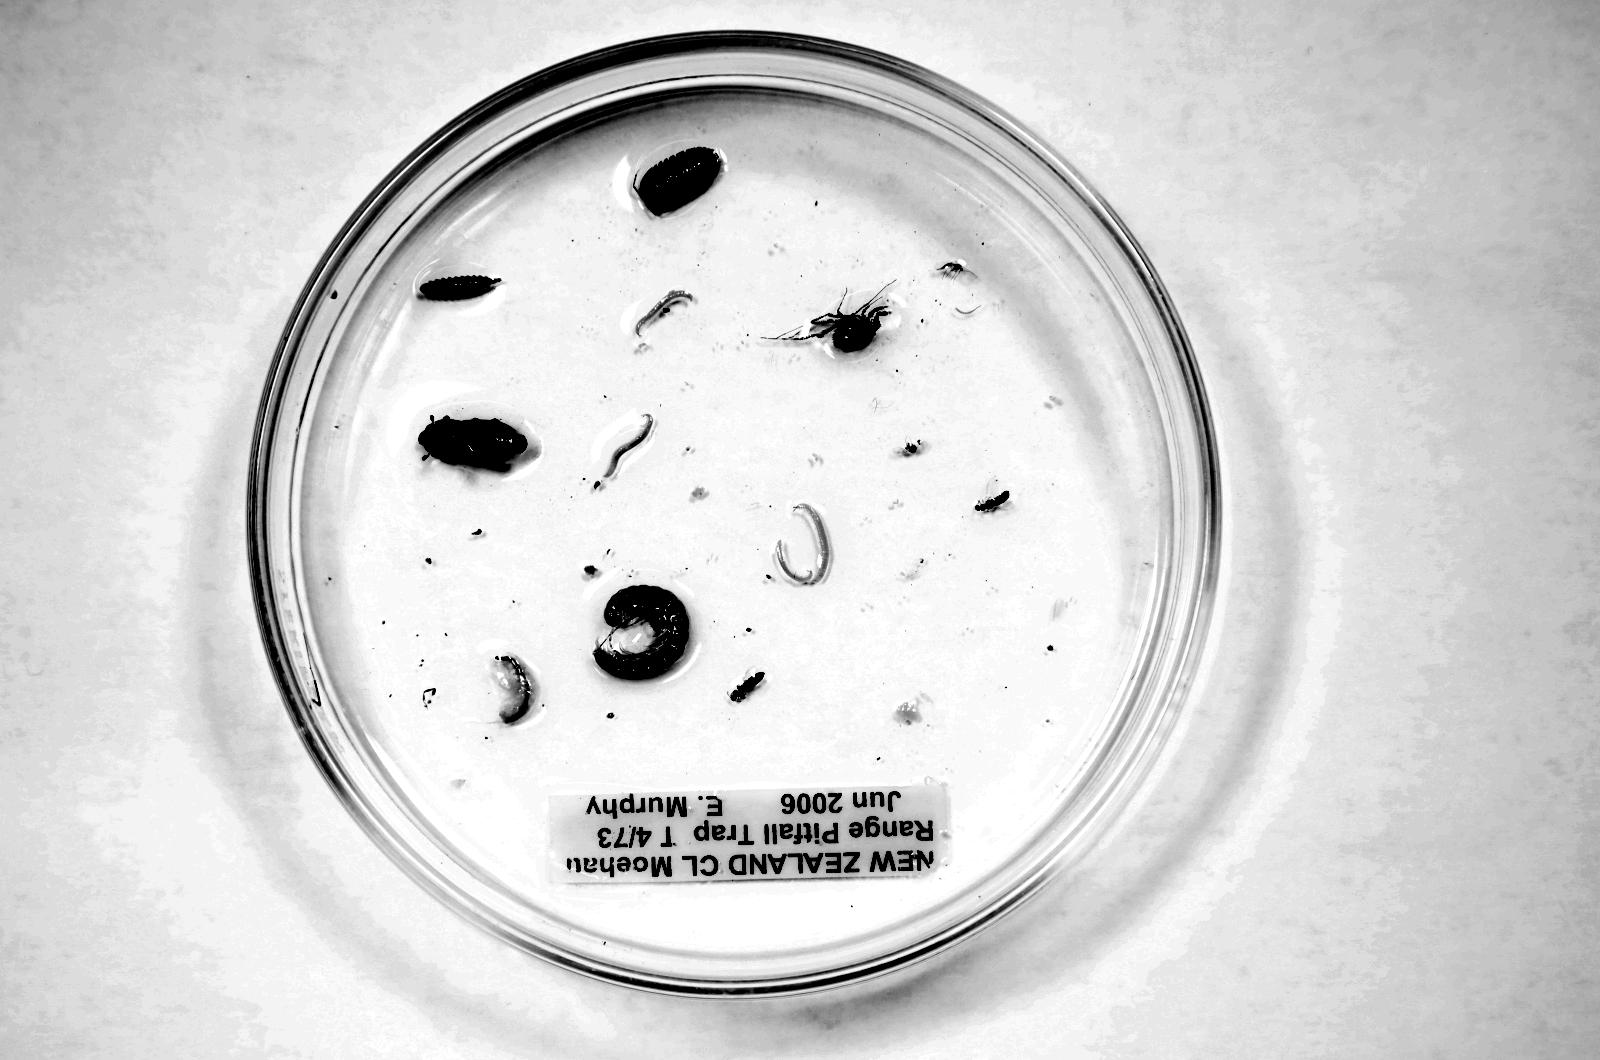amphipoda: (492, 656, 537, 723)
coleoptera: (419, 416, 527, 467), (729, 672, 764, 701), (974, 491, 1010, 511)
diplopoda: (594, 585, 688, 679), (777, 504, 829, 584), (604, 414, 654, 478), (636, 290, 692, 336)
isopoda: (636, 147, 721, 214)
opiliones: (786, 300, 891, 351)
